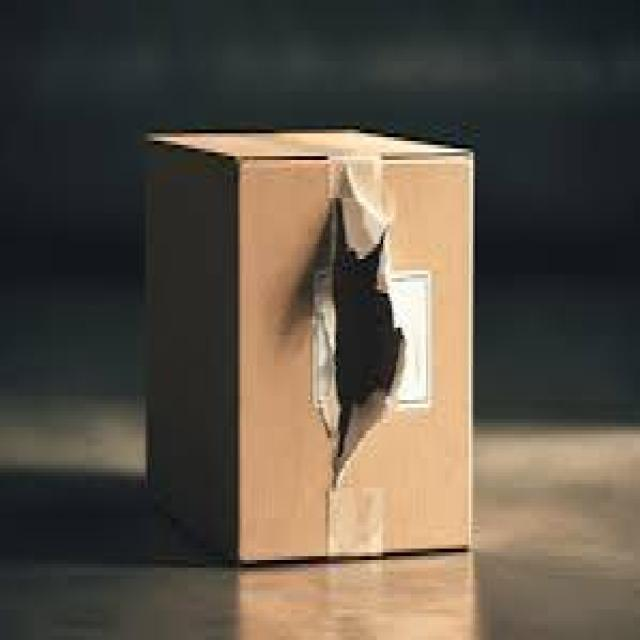package_damage: (309, 165, 414, 520)
